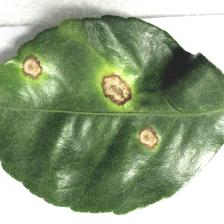canker: (18, 50, 162, 150)
